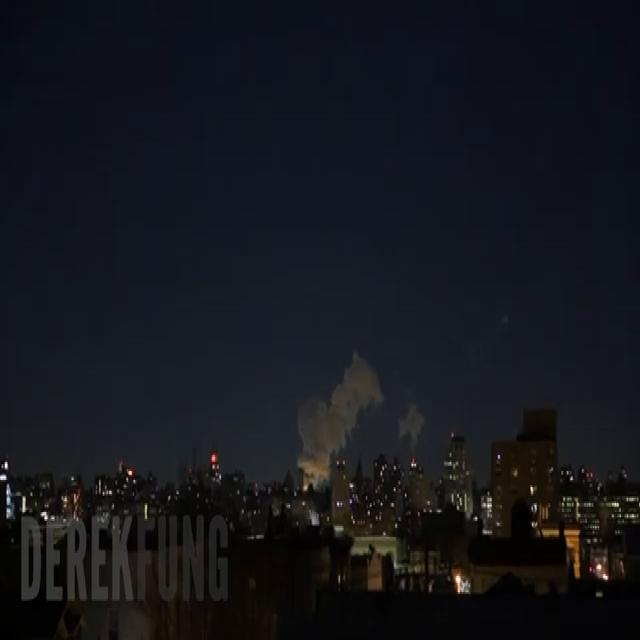smoke: (297, 352, 383, 478)
